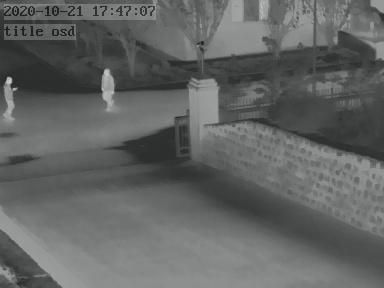person: (99, 67, 117, 111), (2, 74, 18, 119)
